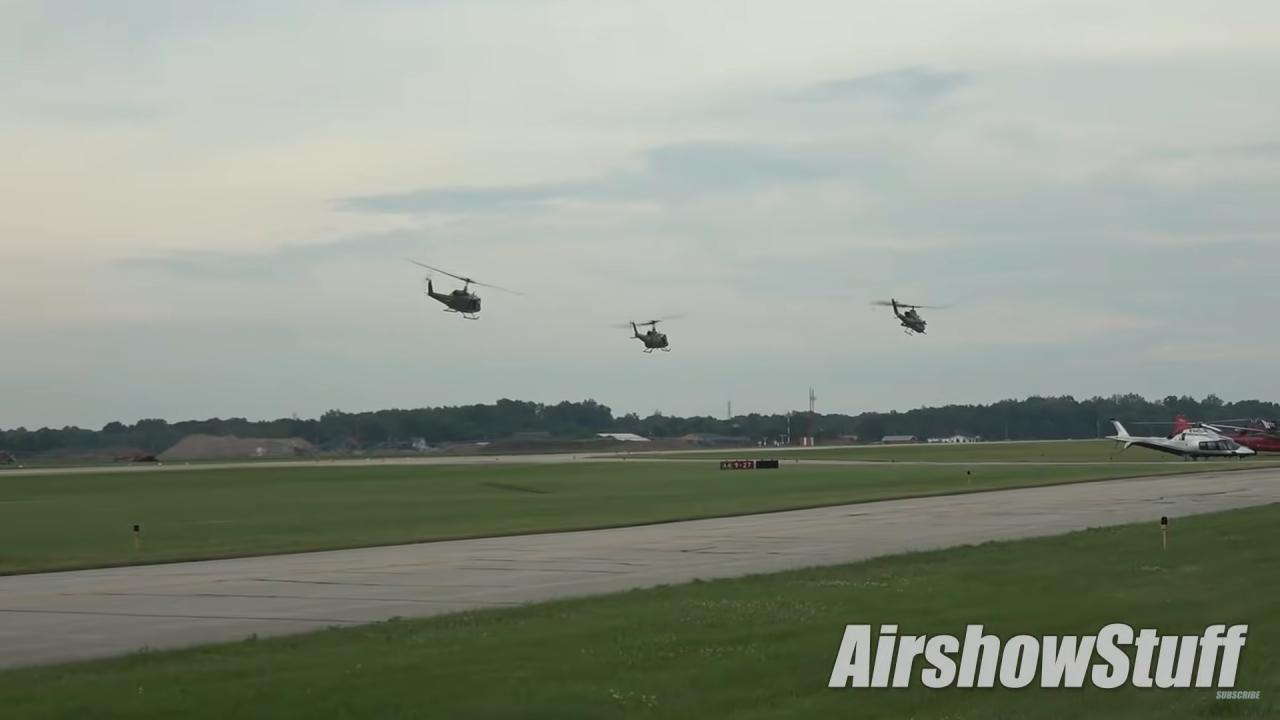Helicopter: (390, 240, 542, 342), (597, 298, 706, 369), (857, 280, 965, 351)
